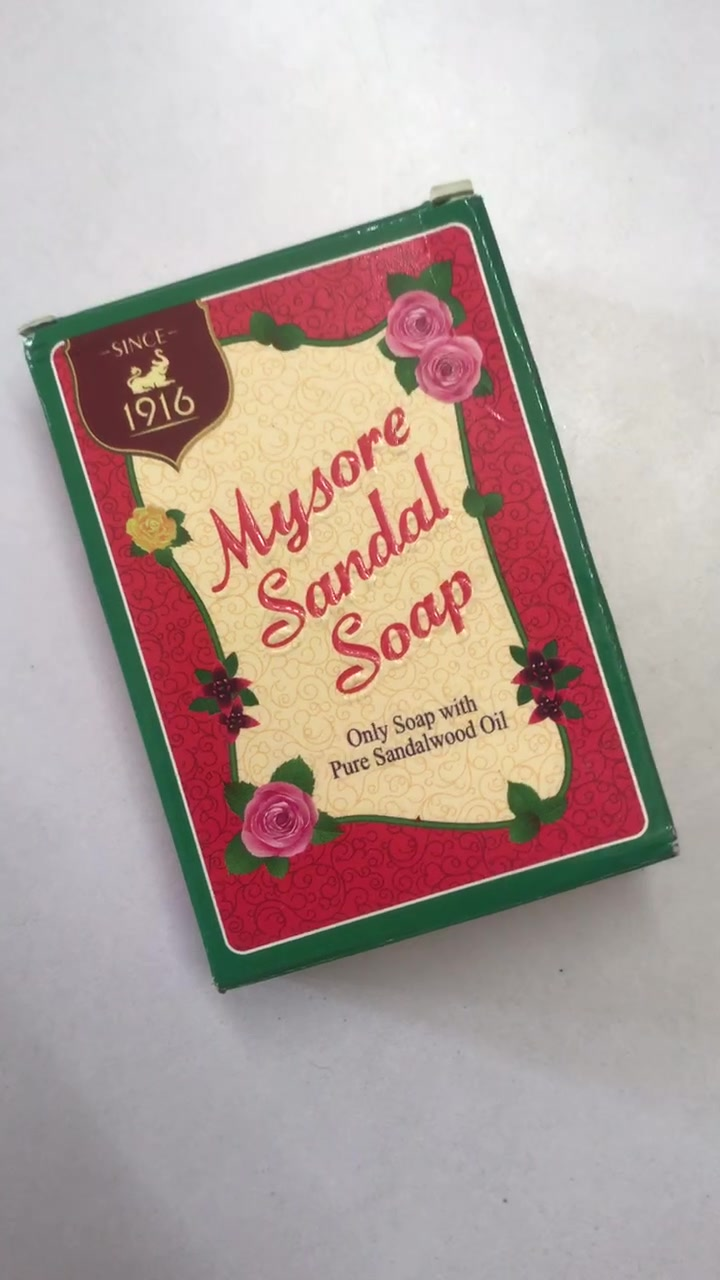mysore sandal soap: (26, 200, 674, 993)
